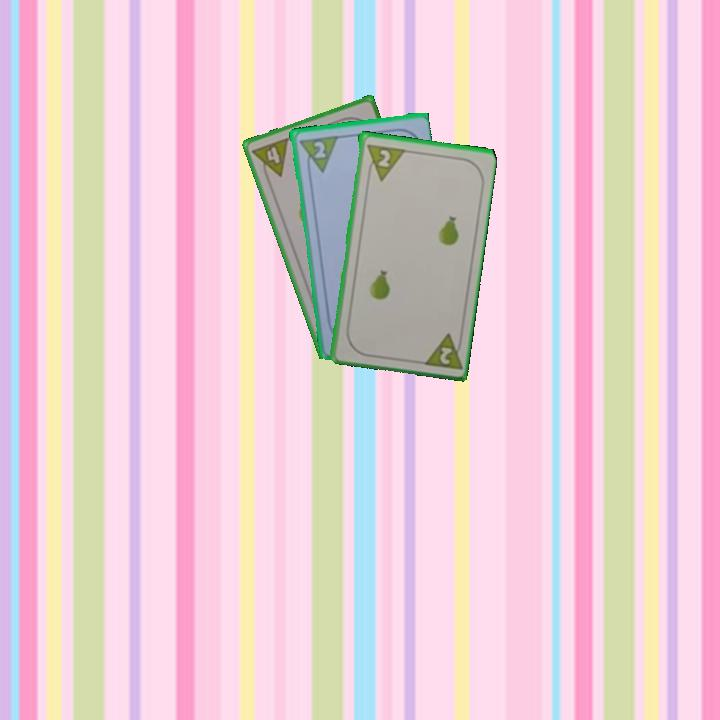2p: (418, 329, 465, 372), (363, 140, 406, 183), (310, 137, 329, 161)
4p: (248, 134, 292, 184)
